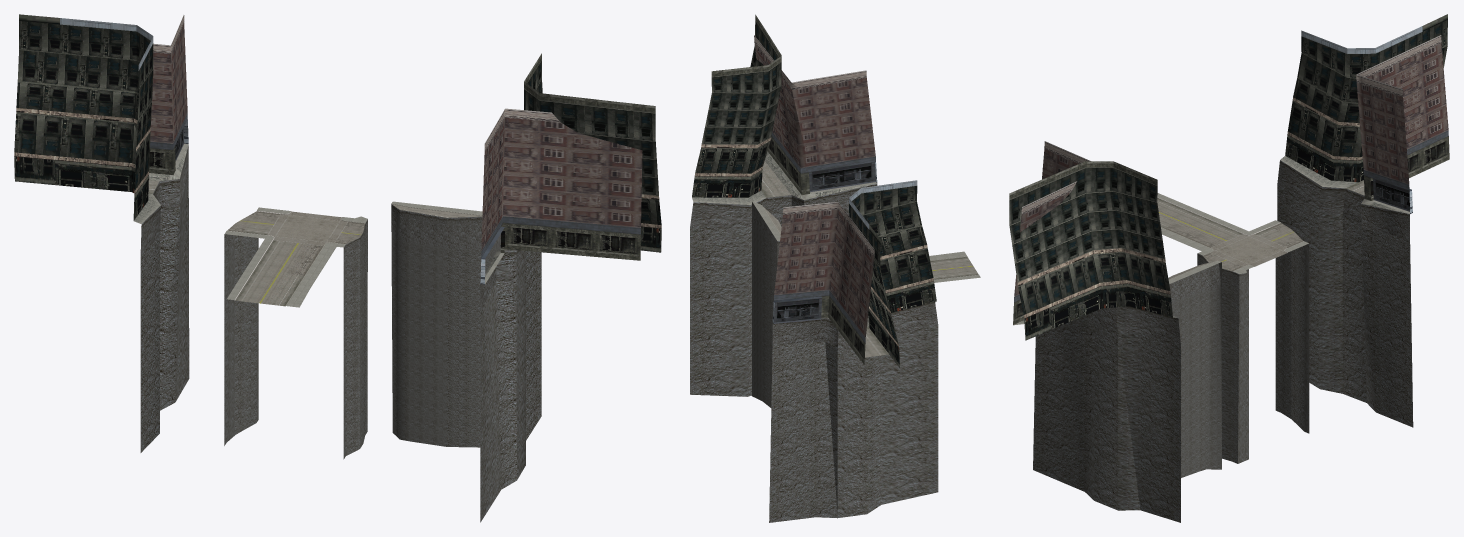
The model's file is STG0100_OS_11.fbx.
The picture shows the model from 3 angles, left to right: view 1: azimuth 30°, elevation 25°; view 2: azimuth 150°, elevation 25°; view 3: azimuth 270°, elevation 25°; orthographic projection. The views are drawn at different scales.
Visible parts, largest first — view 1: STG0100_OS_11_s0100_nn001; view 2: STG0100_OS_11_s0100_nn001; view 3: STG0100_OS_11_s0100_nn001.
Boxes of the visible parts, x1,y1,x2,y2 form: STG0100_OS_11_s0100_nn001: [14, 14, 661, 522]; STG0100_OS_11_s0100_nn001: [690, 14, 980, 522]; STG0100_OS_11_s0100_nn001: [1009, 14, 1449, 522].
Size of the model in its own units: 1110 by 999 by 1122.
